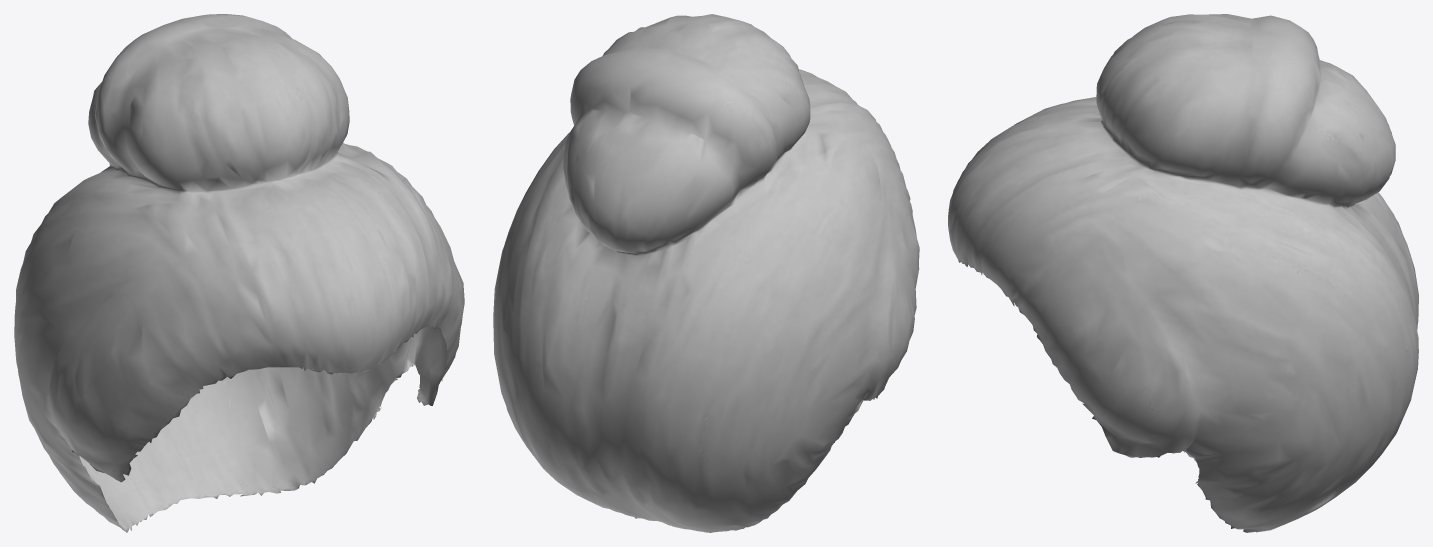
The model's file is hair_bun.glb.
3 renders of one model, left to right at view 1: azimuth 30°, elevation 25°; view 2: azimuth 150°, elevation 25°; view 3: azimuth 270°, elevation 25°, orthographic. The views are drawn at different scales.
Visible parts, largest first — view 1: Hair; view 2: Hair; view 3: Hair.
Boxes of the visible parts, box(x1,y1,x2,y2) form: Hair: box(14, 14, 464, 532); Hair: box(493, 14, 919, 532); Hair: box(948, 14, 1418, 532).
Bounding box in the file's own units: 0.984 × 1.22 × 1.09.
1 material, 1 textured.
